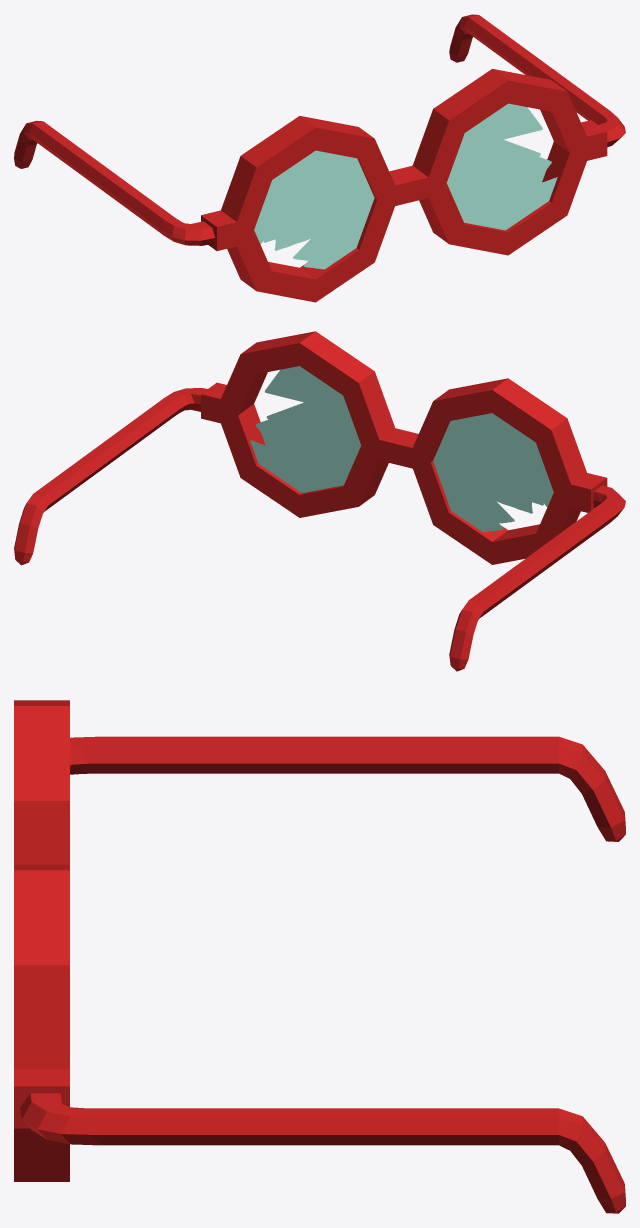
File: Glasses.FBX
3 renders of one model, top to bottom at view 1: azimuth 30°, elevation 25°; view 2: azimuth 150°, elevation 25°; view 3: azimuth 270°, elevation 25°, orthographic. The views are drawn at different scales.
Visible parts, largest first — view 1: Glasses; view 2: Glasses; view 3: Glasses.
Part boxes in pixels (left/top/right/bottom): Glasses: left=14, top=14, right=625, bottom=302; Glasses: left=14, top=331, right=625, bottom=671; Glasses: left=14, top=700, right=625, bottom=1213.
Size of the model in its own units: 76.34 by 50.92 by 28.1.
